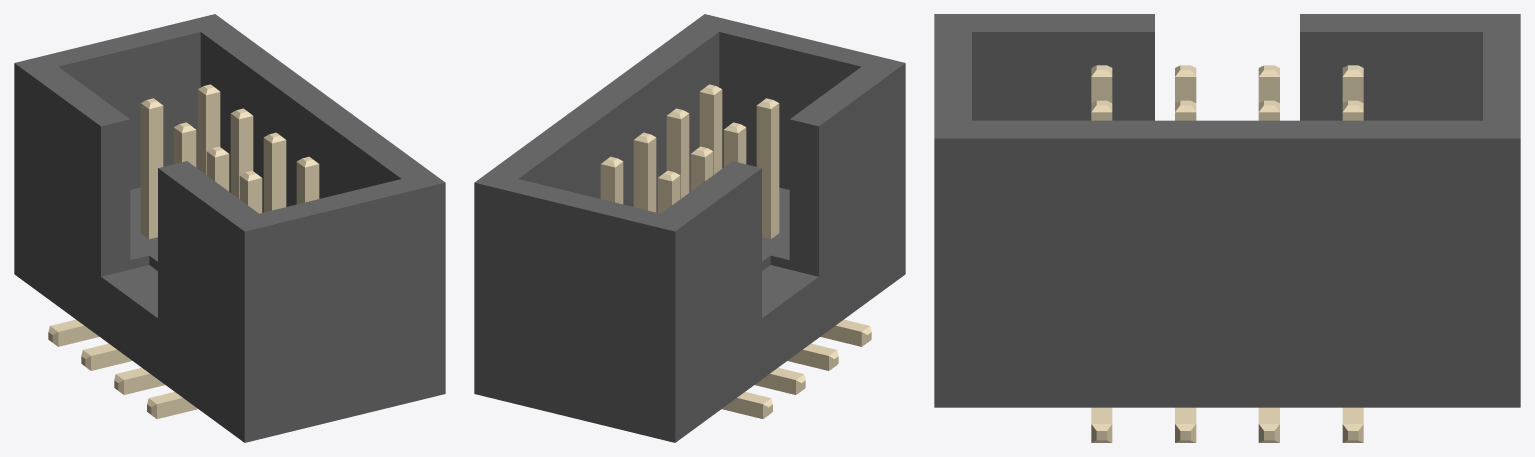
File: kc-idc-header_2x04_p2.54mm_vertical_smd.glb
The picture shows the model from 3 angles, left to right: view 1: azimuth 30°, elevation 25°; view 2: azimuth 150°, elevation 25°; view 3: azimuth 270°, elevation 25°; orthographic projection. The views are drawn at different scales.
Parts seen in each view (by area): view 1: 0.16666666666666666_0.16666666666666666_0.16666666666666666_, 0.8333333333333334_0.75_0.5_0.9; view 2: 0.16666666666666666_0.16666666666666666_0.16666666666666666_, 0.8333333333333334_0.75_0.5_0.9; view 3: 0.16666666666666666_0.16666666666666666_0.16666666666666666_, 0.8333333333333334_0.75_0.5_0.9.
Boxes of the visible parts, x1,y1,x2,y2 form: 0.16666666666666666_0.16666666666666666_0.16666666666666666_: [14, 14, 445, 442]; 0.8333333333333334_0.75_0.5_0.9: [48, 84, 319, 418]; 0.16666666666666666_0.16666666666666666_0.16666666666666666_: [474, 14, 905, 442]; 0.8333333333333334_0.75_0.5_0.9: [600, 84, 871, 418]; 0.16666666666666666_0.16666666666666666_0.16666666666666666_: [934, 14, 1520, 407]; 0.8333333333333334_0.75_0.5_0.9: [1091, 65, 1363, 442].
Bounding box in the file's own units: 1.16 × 0.964 × 1.78.
